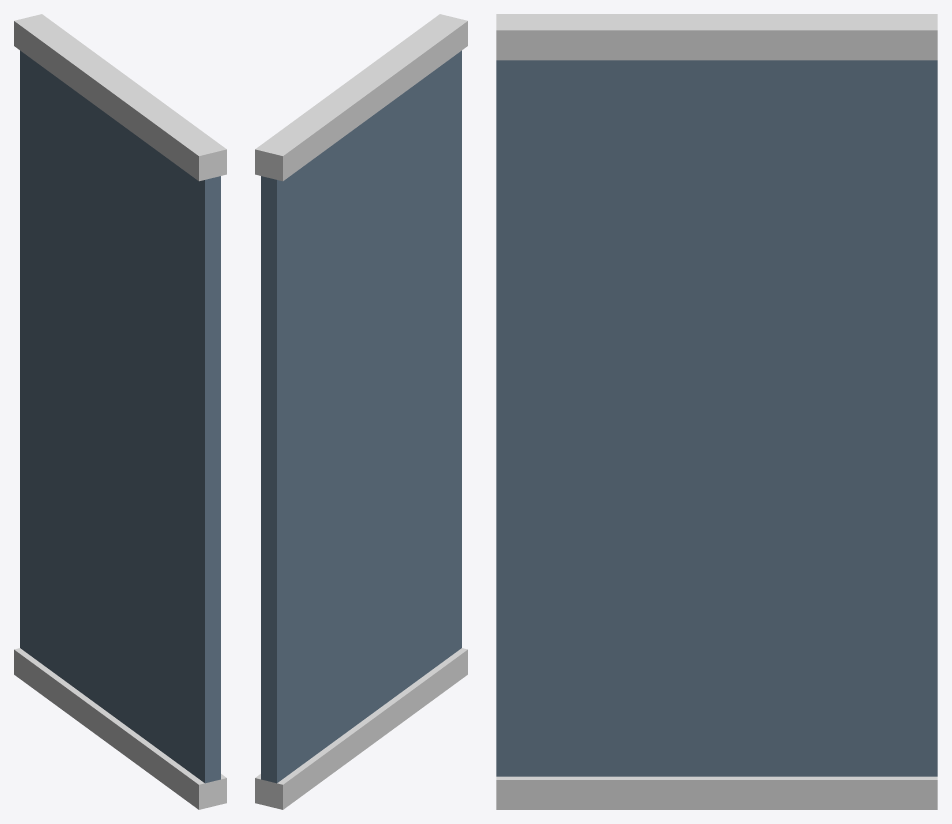
Rendered from Cubicle 1 Middle Big.fbx.
3 renders of one model, left to right at view 1: azimuth 30°, elevation 25°; view 2: azimuth 150°, elevation 25°; view 3: azimuth 270°, elevation 25°, orthographic. The views are drawn at different scales.
Visible parts, largest first — view 1: Middle B; view 2: Middle B; view 3: Middle B.
Part boxes in pixels (bbox=[...]): Middle B: bbox=[14, 14, 226, 809]; Middle B: bbox=[255, 14, 467, 809]; Middle B: bbox=[496, 14, 937, 809].
Size of the model in its own units: 8.75 by 195 by 100.
